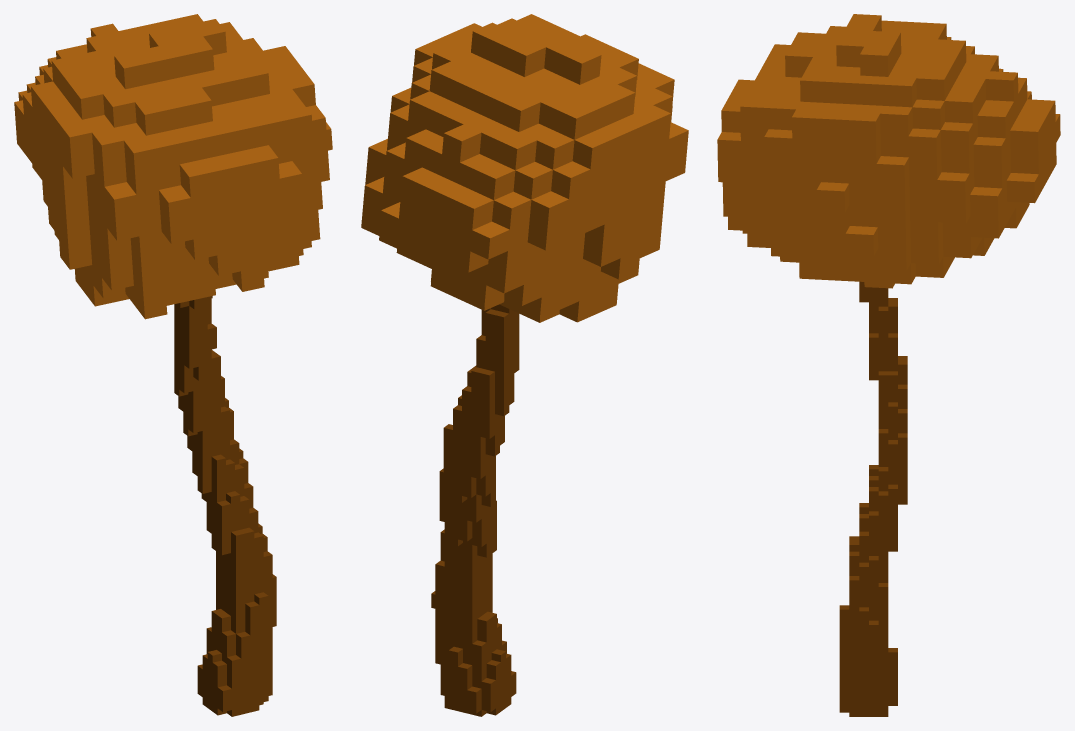
The model's file is Voxeltree_02_orange.glb.
3 views of the same model, side by side, from view 1: azimuth 30°, elevation 25°; view 2: azimuth 150°, elevation 25°; view 3: azimuth 270°, elevation 25° (orthographic). The views are drawn at different scales.
Parts seen in each view (by area): view 1: Voxeltree_02_orange_Wood_0; view 2: Voxeltree_02_orange_Wood_0; view 3: Voxeltree_02_orange_Wood_0.
Part boxes in pixels (x1,y1,x2,y2): Voxeltree_02_orange_Wood_0: (14, 14, 332, 716); Voxeltree_02_orange_Wood_0: (361, 14, 688, 716); Voxeltree_02_orange_Wood_0: (717, 14, 1060, 716).
Bounding box in the file's own units: 3.76 × 9.21 × 4.42.
